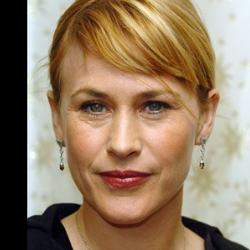face: (36, 1, 227, 231)
